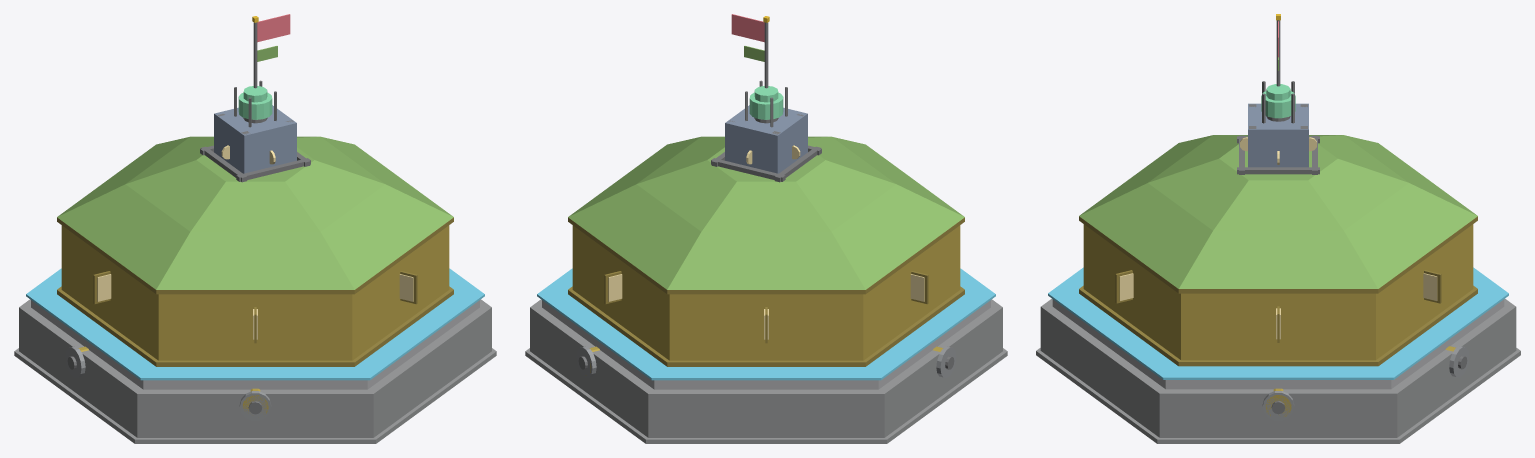
The model's file is main_building_s2_100.glb.
3 views of the same model, side by side, from view 1: azimuth 30°, elevation 25°; view 2: azimuth 150°, elevation 25°; view 3: azimuth 270°, elevation 25° (orthographic).
Visible parts, largest first — view 1: MB_BalconyE; view 2: MB_BalconyE; view 3: MB_BalconyE.
Boxes of the visible parts, bbox=[...] form: MB_BalconyE: bbox=[14, 14, 496, 443]; MB_BalconyE: bbox=[525, 14, 1007, 443]; MB_BalconyE: bbox=[1036, 14, 1520, 443].
Bounding box in the file's own units: 3.51 × 3.08 × 3.98.
